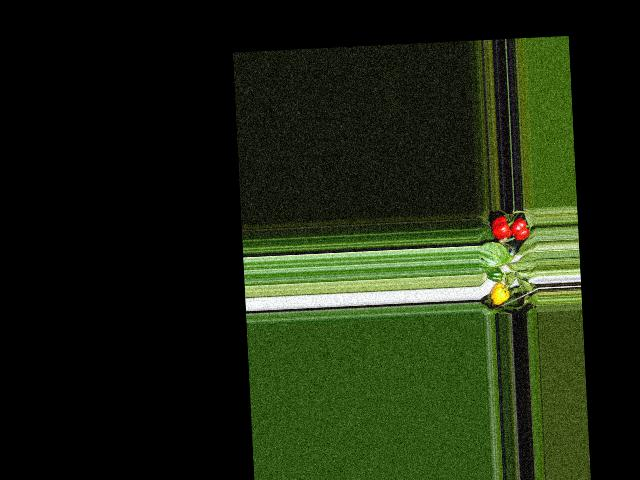bell_pepper: (488, 281, 510, 307)
